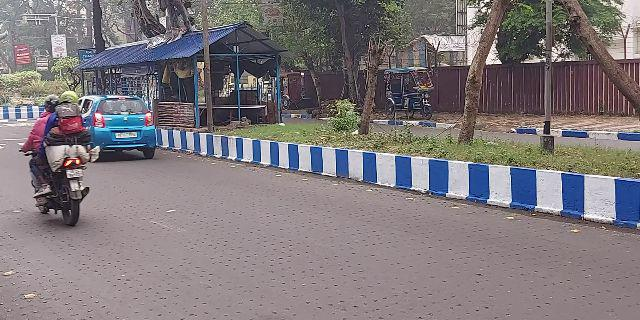Car: (80, 90, 160, 164)
Motorbike: (25, 92, 93, 225)
